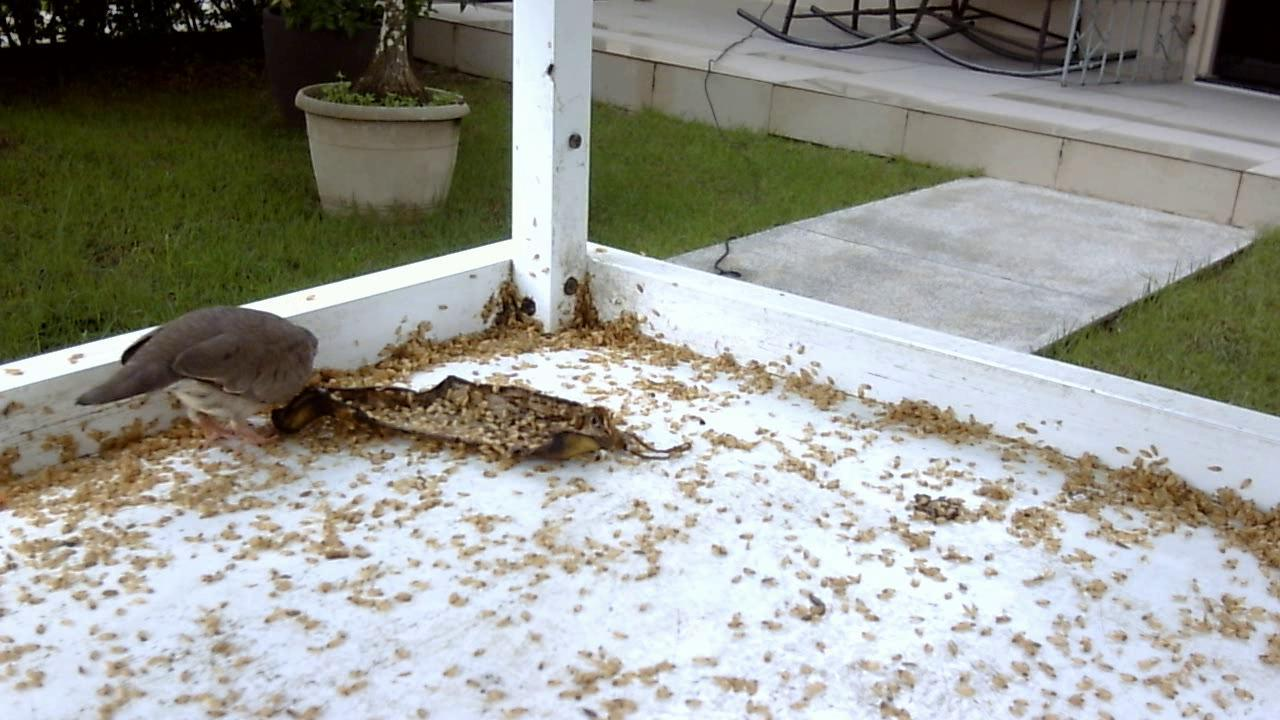rolinha: (69, 294, 332, 445)
